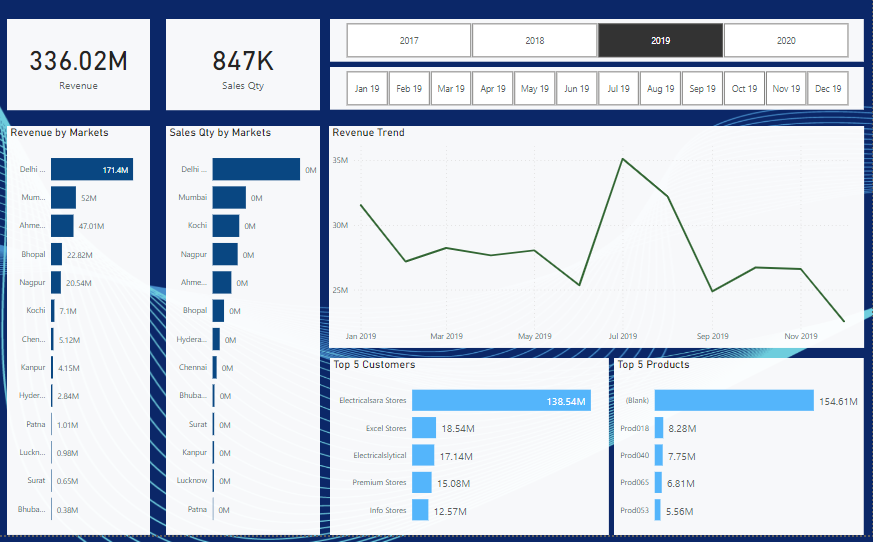

The dashboard page shown, as its layout file describes it:
{"tool":"powerbi","page":{"name":"Page 1","canvas":[1350,850],"ordinal":0},"visuals":[{"type":"card","fields":{"Values":["BaseMeasures (2).Revenue"]},"box":[12.4,52.5,221,140.6],"z":0},{"type":"card","fields":{"Values":["BaseMeasures (2).Sales Qty"]},"box":[258.1,52.5,238,140.6],"z":1000},{"type":"barChart","title":"Revenue by Markets","fields":{"Y":["BaseMeasures (2).Revenue"],"Category":["sales markets.markets_name"]},"box":[12.4,217.9,221,632.1],"z":2000},{"type":"barChart","title":"Sales Qty by Markets","fields":{"Y":["BaseMeasures (2).Sales Qty"],"Category":["sales markets.markets_name"]},"box":[258.1,217.9,238,632.1],"z":3000},{"type":"slicer","fields":{"Values":["sales date.year"]},"box":[511.5,52.5,825.3,66.5],"z":4000},{"type":"slicer","fields":{"Values":["sales date.cy_date"]},"box":[511.5,126.7,825.3,66.5],"z":5000},{"type":"barChart","title":"Top 5 Customers","fields":{"Y":["BaseMeasures (2).Revenue"],"Category":["sales customers.custmer_name"]},"box":[511.5,576.5,431.2,273.5],"z":6000},{"type":"barChart","title":"Top 5 Products","fields":{"Y":["BaseMeasures (2).Revenue"],"Category":["sales products.product_code"]},"box":[950.5,576.5,386.4,273.5],"z":7000},{"type":"lineChart","title":"Revenue Trend","fields":{"Y":["BaseMeasures (2).Revenue"],"Category":["sales date.cy_date"]},"box":[510,217.9,826.8,343.1],"z":8000}]}

Visuals, with their boxes in screenshot pixels (x1, y1, x2, y2), scaled from the page's 1350x850 canvas onto the 873x542 screenshot:
card - BaseMeasures (2).Revenue: left=8, top=33, right=151, bottom=123
card - BaseMeasures (2).Sales Qty: left=167, top=33, right=321, bottom=123
"Revenue by Markets" barChart: left=8, top=139, right=151, bottom=541
"Sales Qty by Markets" barChart: left=167, top=139, right=321, bottom=541
slicer - sales date.year: left=331, top=33, right=864, bottom=76
slicer - sales date.cy_date: left=331, top=81, right=864, bottom=123
"Top 5 Customers" barChart: left=331, top=368, right=610, bottom=541
"Top 5 Products" barChart: left=615, top=368, right=865, bottom=541
"Revenue Trend" lineChart: left=330, top=139, right=864, bottom=358
